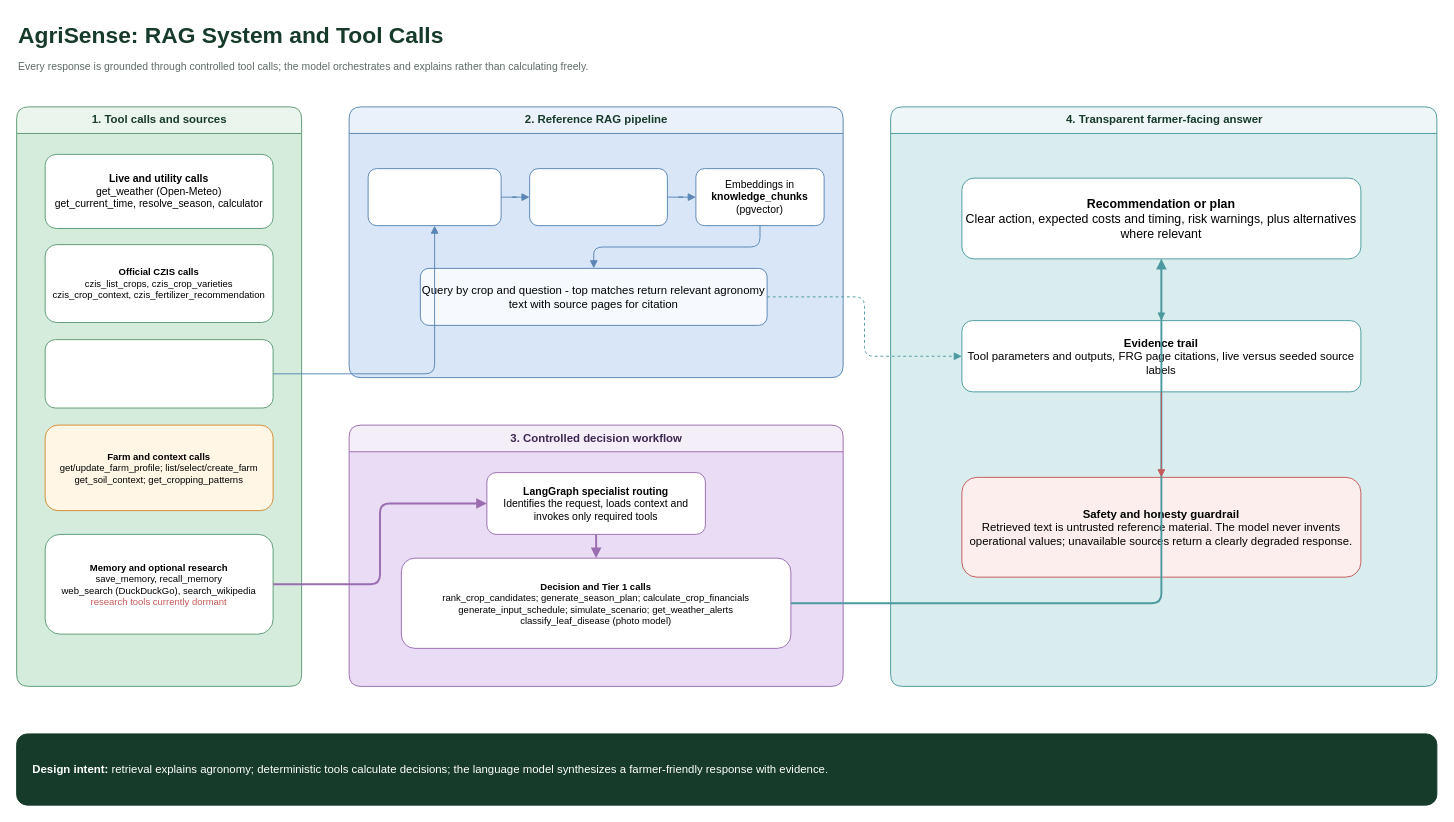
Image size: 1454x822. Some labels were removed from this diagram. The centre of each missing label's shape, as x and y in pixels:
FRG 2024 / BAMIS source documents: [434,197]
Heading and crop-aware chunks + source/page metadata: [598,197]
RAG retrieval call search_knowledge_base FRG 2024 + BAMIS references: [158,373]
